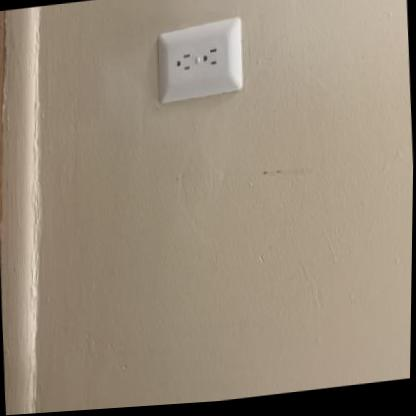OUTLET: (152, 14, 246, 105)
